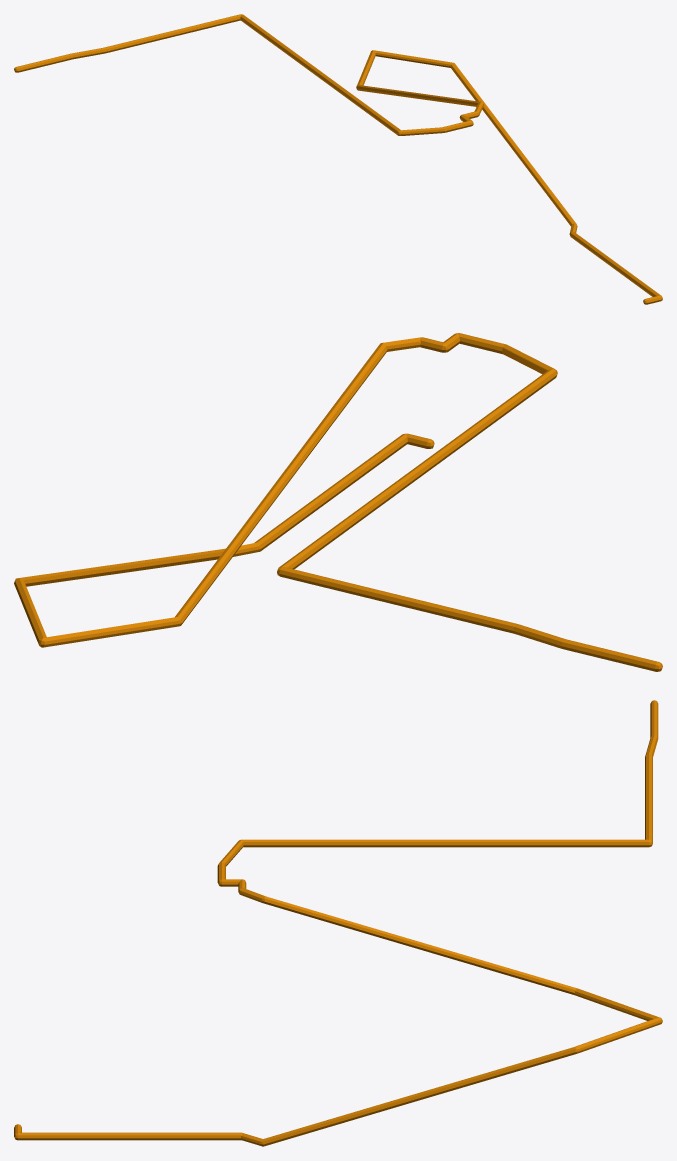
3 renders of one model, top to bottom at view 1: azimuth 30°, elevation 25°; view 2: azimuth 150°, elevation 25°; view 3: azimuth 270°, elevation 25°, orthographic. The views are drawn at different scales.
Bounding box in the file's own units: 1495 × 520 × 1592.
